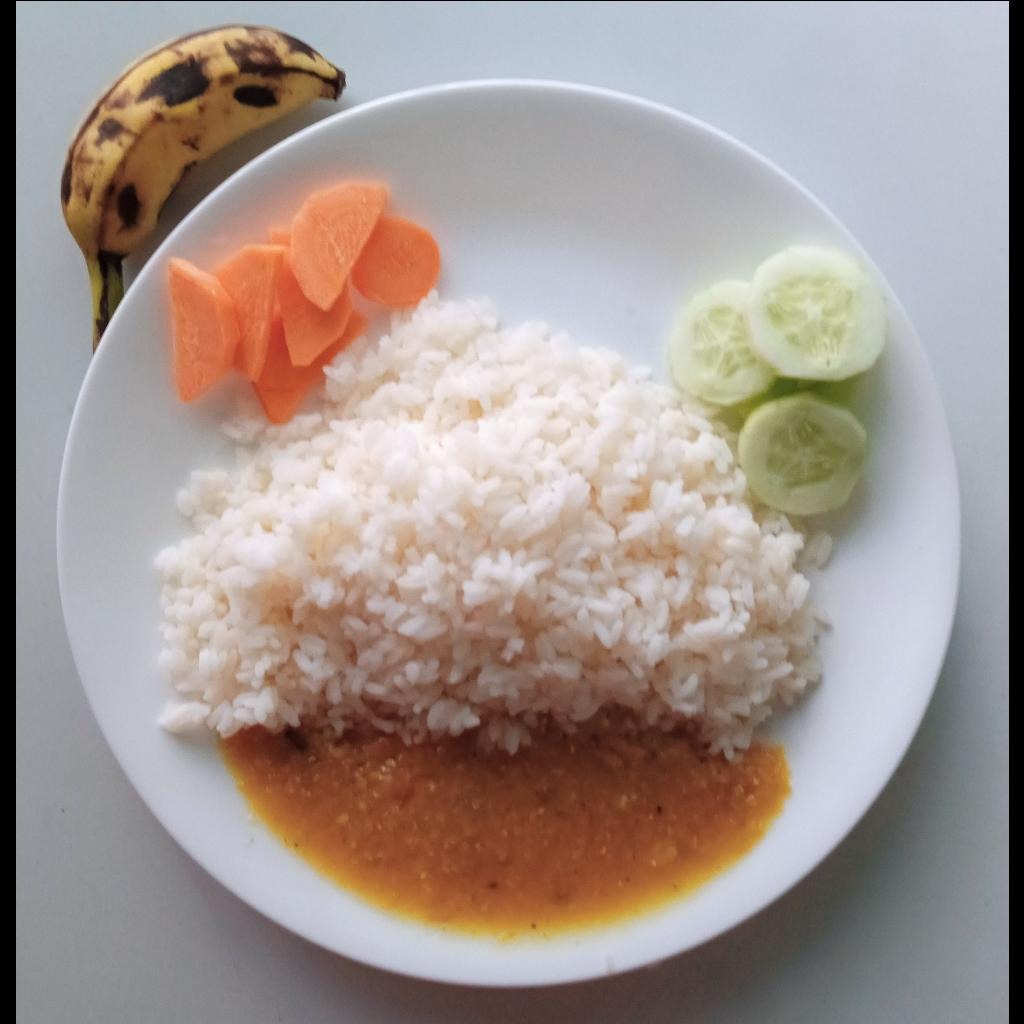banana: (59, 22, 348, 352)
carrot: (165, 181, 440, 423)
cucumber: (667, 245, 881, 514)
daal: (208, 709, 794, 935)
rice: (146, 285, 833, 761)
